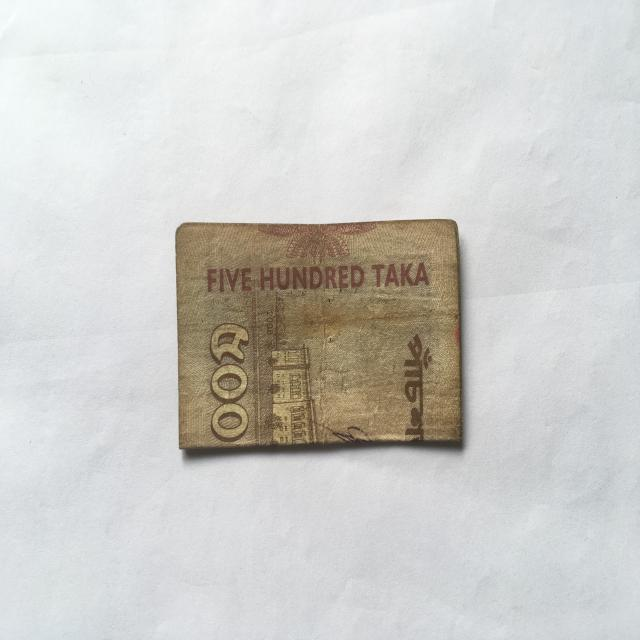Taka: (166, 217, 470, 464)
